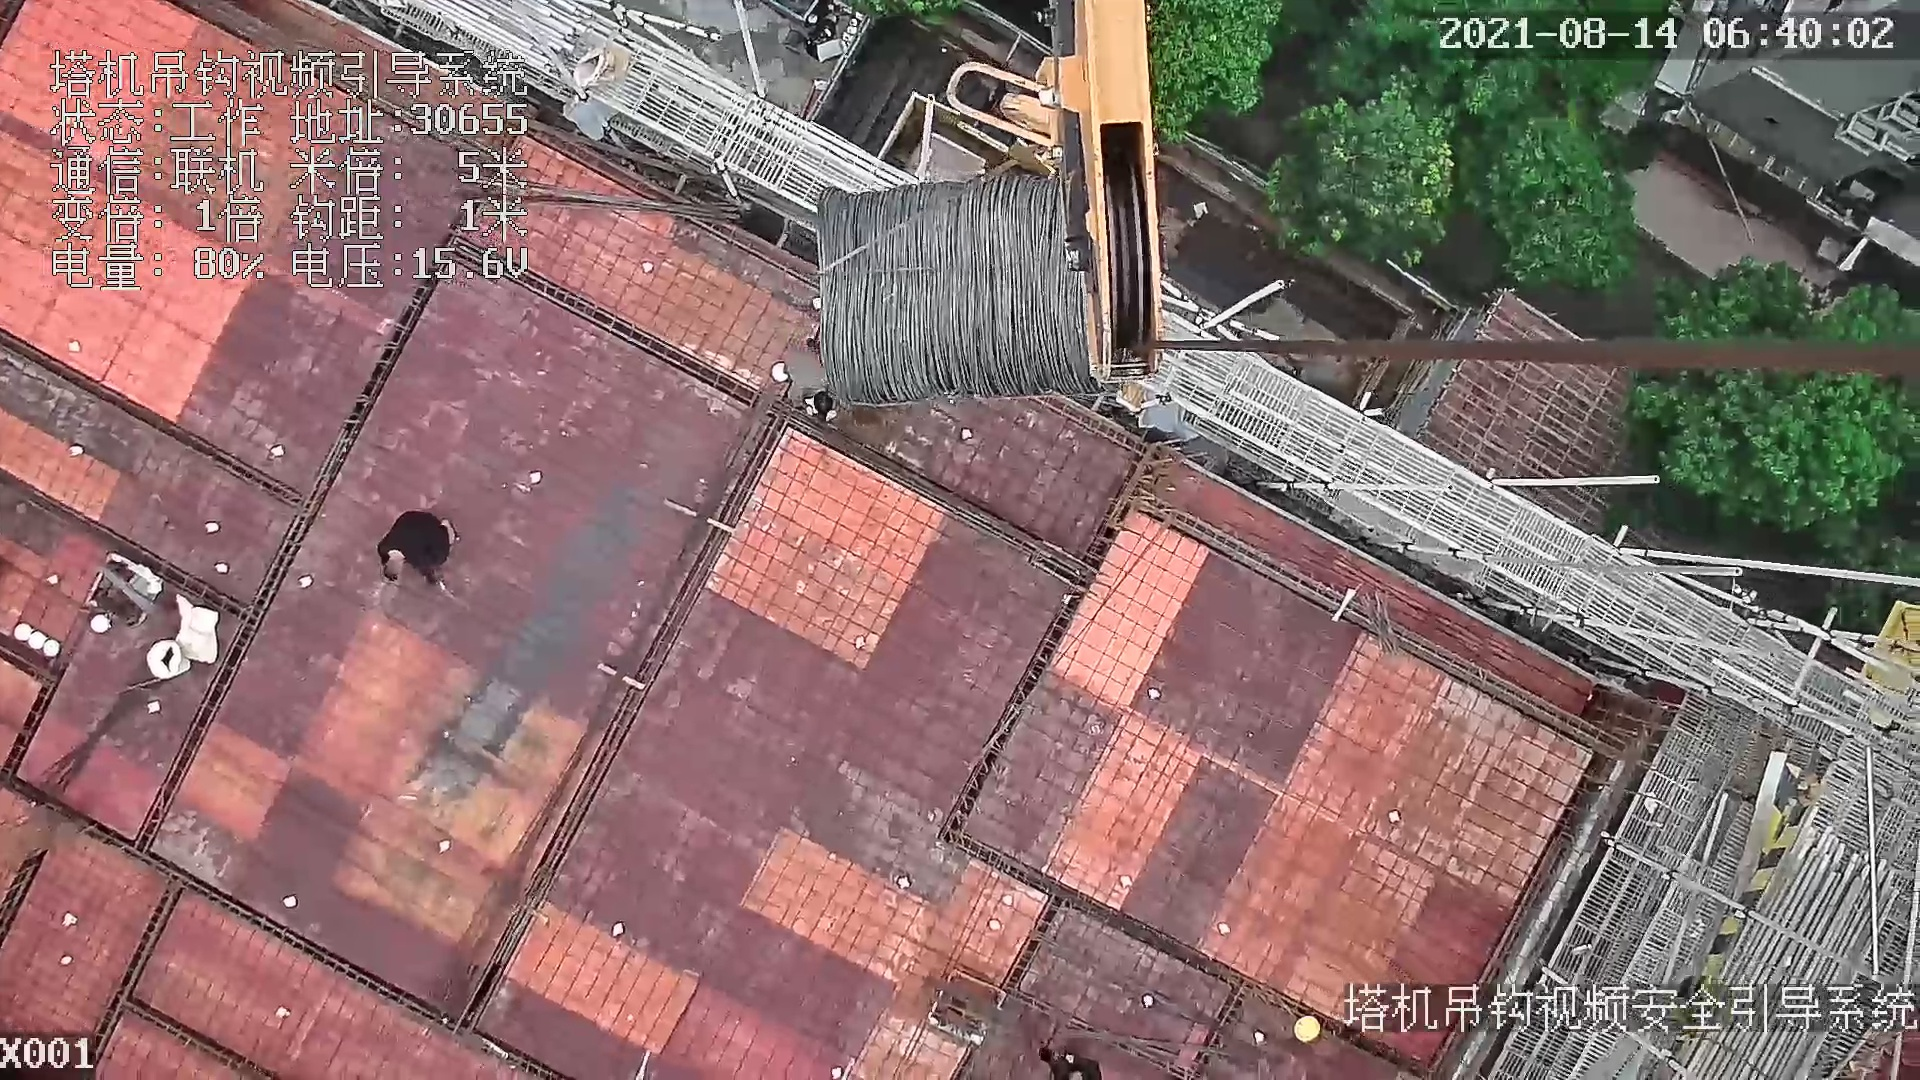helmet: (1295, 1016, 1322, 1041)
hook: (944, 1, 1164, 385)
person: (374, 506, 462, 583), (774, 343, 845, 431)
